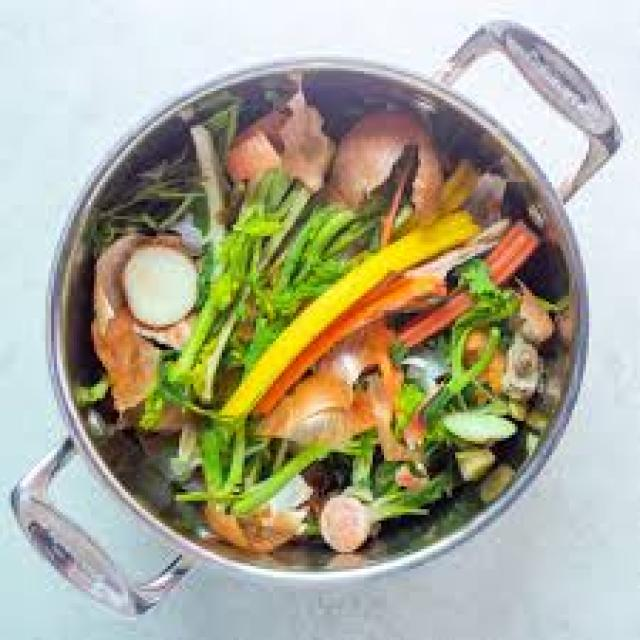Wet: (51, 53, 593, 572), (104, 223, 214, 333)
